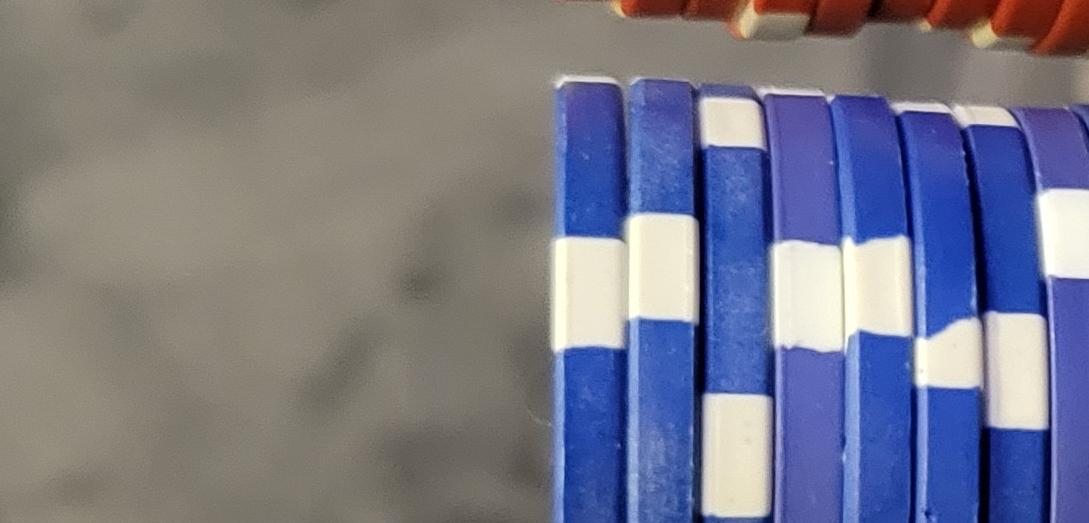Chip: (1, 344, 729, 523)
